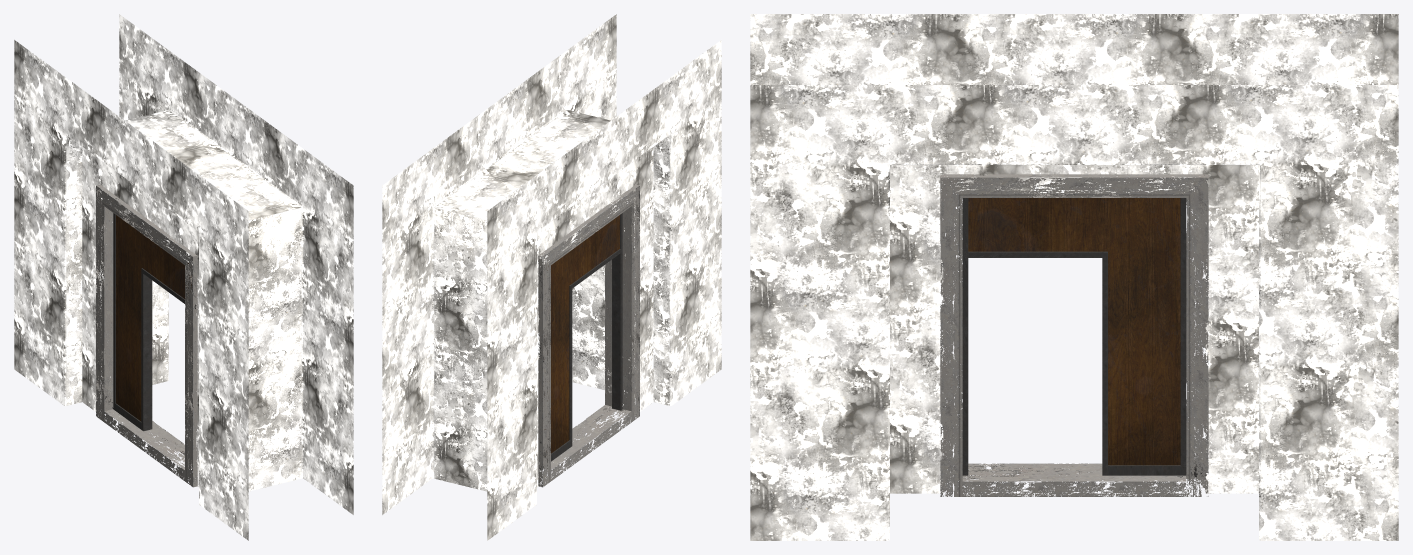
3 views of the same model, side by side, from view 1: azimuth 30°, elevation 25°; view 2: azimuth 150°, elevation 25°; view 3: azimuth 270°, elevation 25° (orthographic). The views are drawn at different scales.
Visible parts, largest first — view 1: SM_wall_B_doorway_4x4_03_LOD0; view 2: SM_wall_B_doorway_4x4_03_LOD0; view 3: SM_wall_B_doorway_4x4_03_LOD0.
Boxes of the visible parts, <box> form: SM_wall_B_doorway_4x4_03_LOD0: <box>14,14,353,540</box>; SM_wall_B_doorway_4x4_03_LOD0: <box>382,14,721,540</box>; SM_wall_B_doorway_4x4_03_LOD0: <box>750,14,1398,540</box>.
Size of the model in its own units: 150 by 580 by 450.
Materials: 3 (3 with a texture image).
